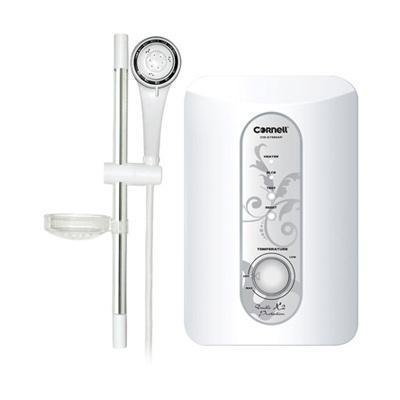Ducha: (41, 17, 379, 364)
